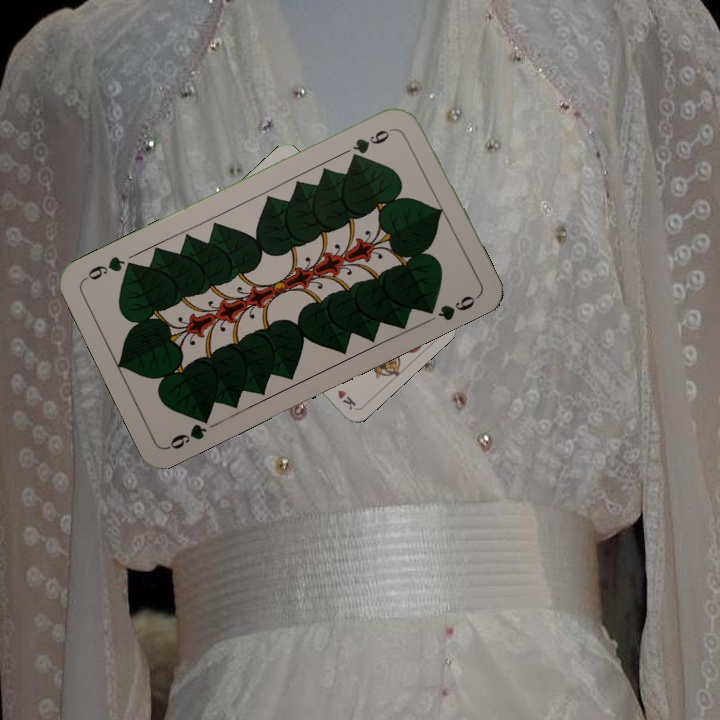G9: (164, 409, 214, 452), (347, 123, 398, 163)
